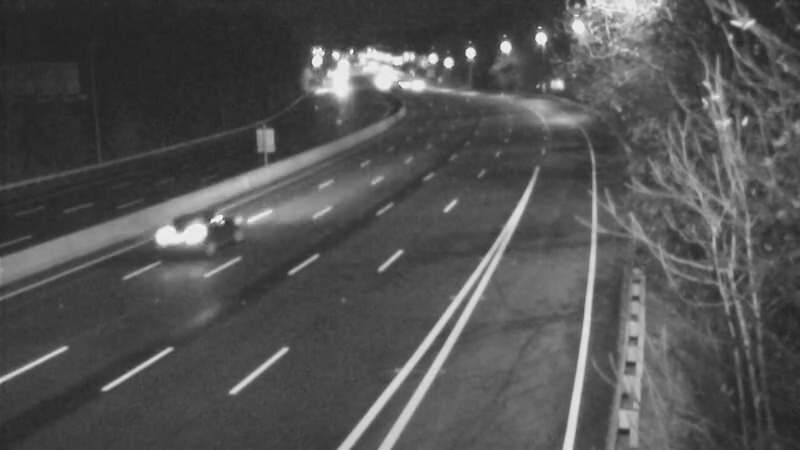vehicle: (148, 195, 228, 275), (392, 60, 442, 110)
